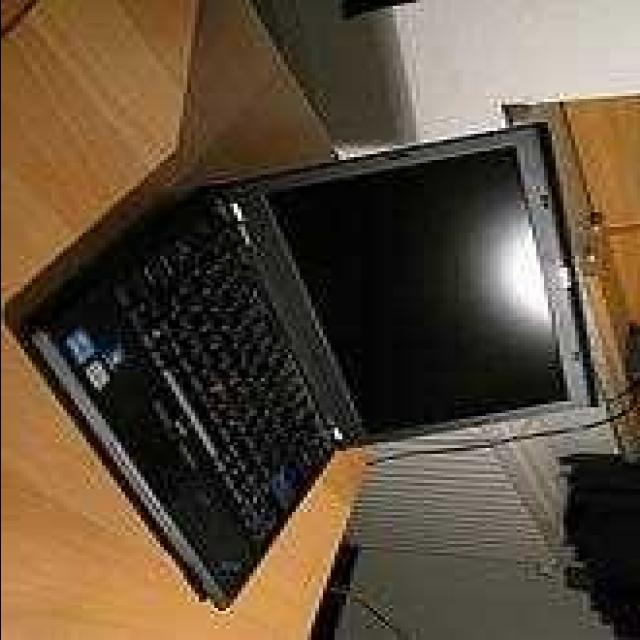laptop: (58, 112, 600, 618)
